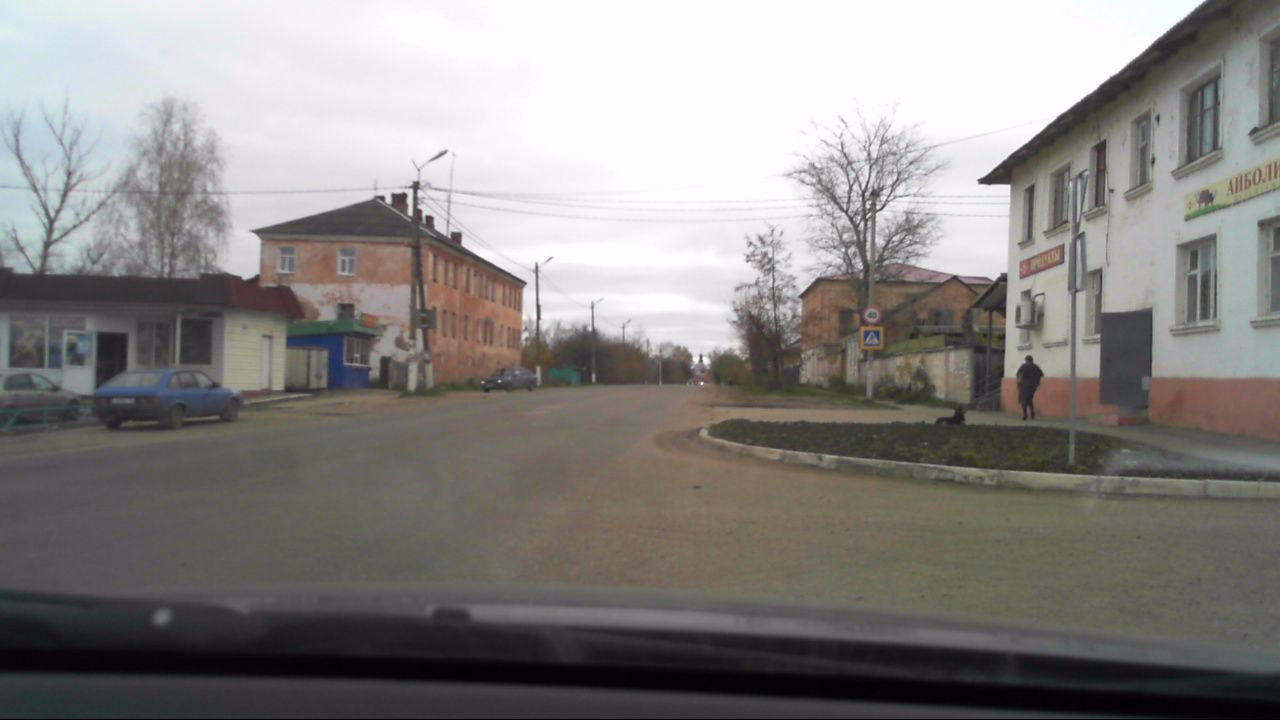speed_warning_40: (860, 306, 880, 326)
